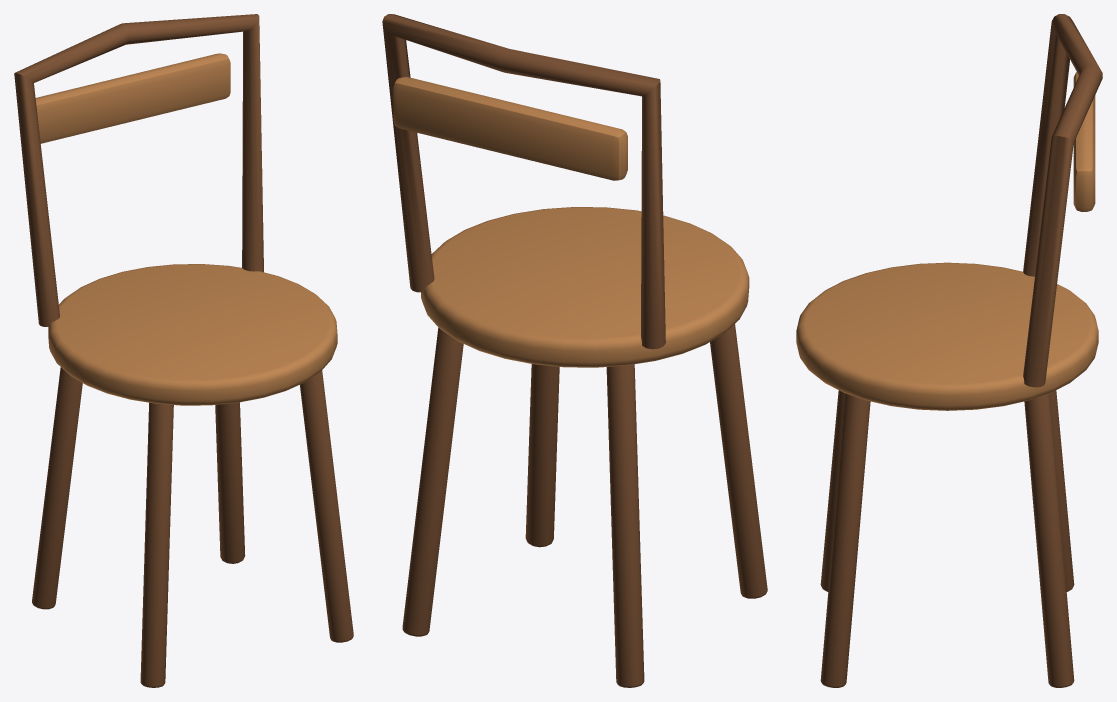
Rendered from cadeira_cafe.glb.
The picture shows the model from 3 angles, left to right: view 1: azimuth 30°, elevation 25°; view 2: azimuth 150°, elevation 25°; view 3: azimuth 270°, elevation 25°; orthographic projection. The views are drawn at different scales.
Parts seen in each view (by area): view 1: Cylinder, tubo, Cube, Cylinder.001, Cylinder.003, Cylinder.002, Cylinder.004; view 2: Cylinder, tubo, Cube, Cylinder.002, Cylinder.004, Cylinder.001, Cylinder.003; view 3: Cylinder, tubo, Cylinder.004, Cylinder.003, Cube, Cylinder.001, Cylinder.002.
Part boxes in pixels (<box>): Cylinder: <box>48,264,337,405</box>; tubo: <box>14,14,263,326</box>; Cube: <box>35,53,230,143</box>; Cylinder.001: <box>140,402,173,687</box>; Cylinder.003: <box>300,370,353,642</box>; Cylinder.002: <box>32,367,82,609</box>; Cylinder.004: <box>215,402,245,563</box>; Cylinder: <box>421,207,749,367</box>; tubo: <box>382,14,665,349</box>; Cube: <box>393,77,627,180</box>; Cylinder.002: <box>606,364,644,687</box>; Cylinder.004: <box>402,328,463,636</box>; Cylinder.001: <box>710,324,767,598</box>; Cylinder.003: <box>525,364,559,547</box>; Cylinder: <box>796,262,1098,410</box>; tubo: <box>1023,14,1102,387</box>; Cylinder.004: <box>1024,393,1074,687</box>; Cylinder.003: <box>820,393,870,687</box>; Cube: <box>1073,72,1095,211</box>; Cylinder.001: <box>820,390,845,591</box>; Cylinder.002: <box>1049,390,1074,591</box>.
Bounding box in the file's own units: 0.42 × 0.8756 × 0.4256.
